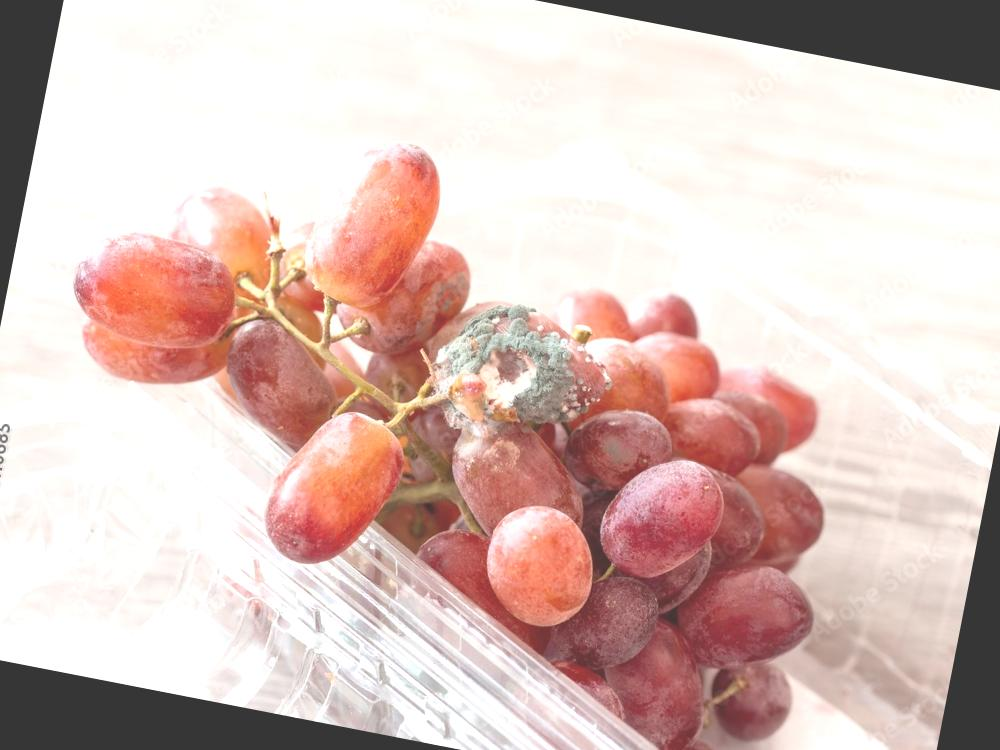Grape Rotten: (0, 82, 907, 750)
